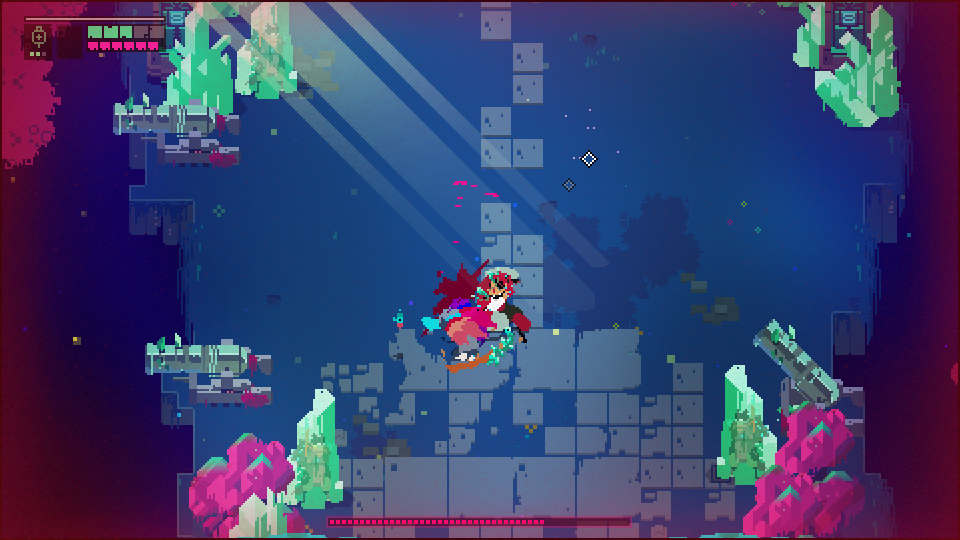hanged_man: (451, 256, 529, 366)
player: (440, 306, 490, 360), (435, 315, 490, 361)
